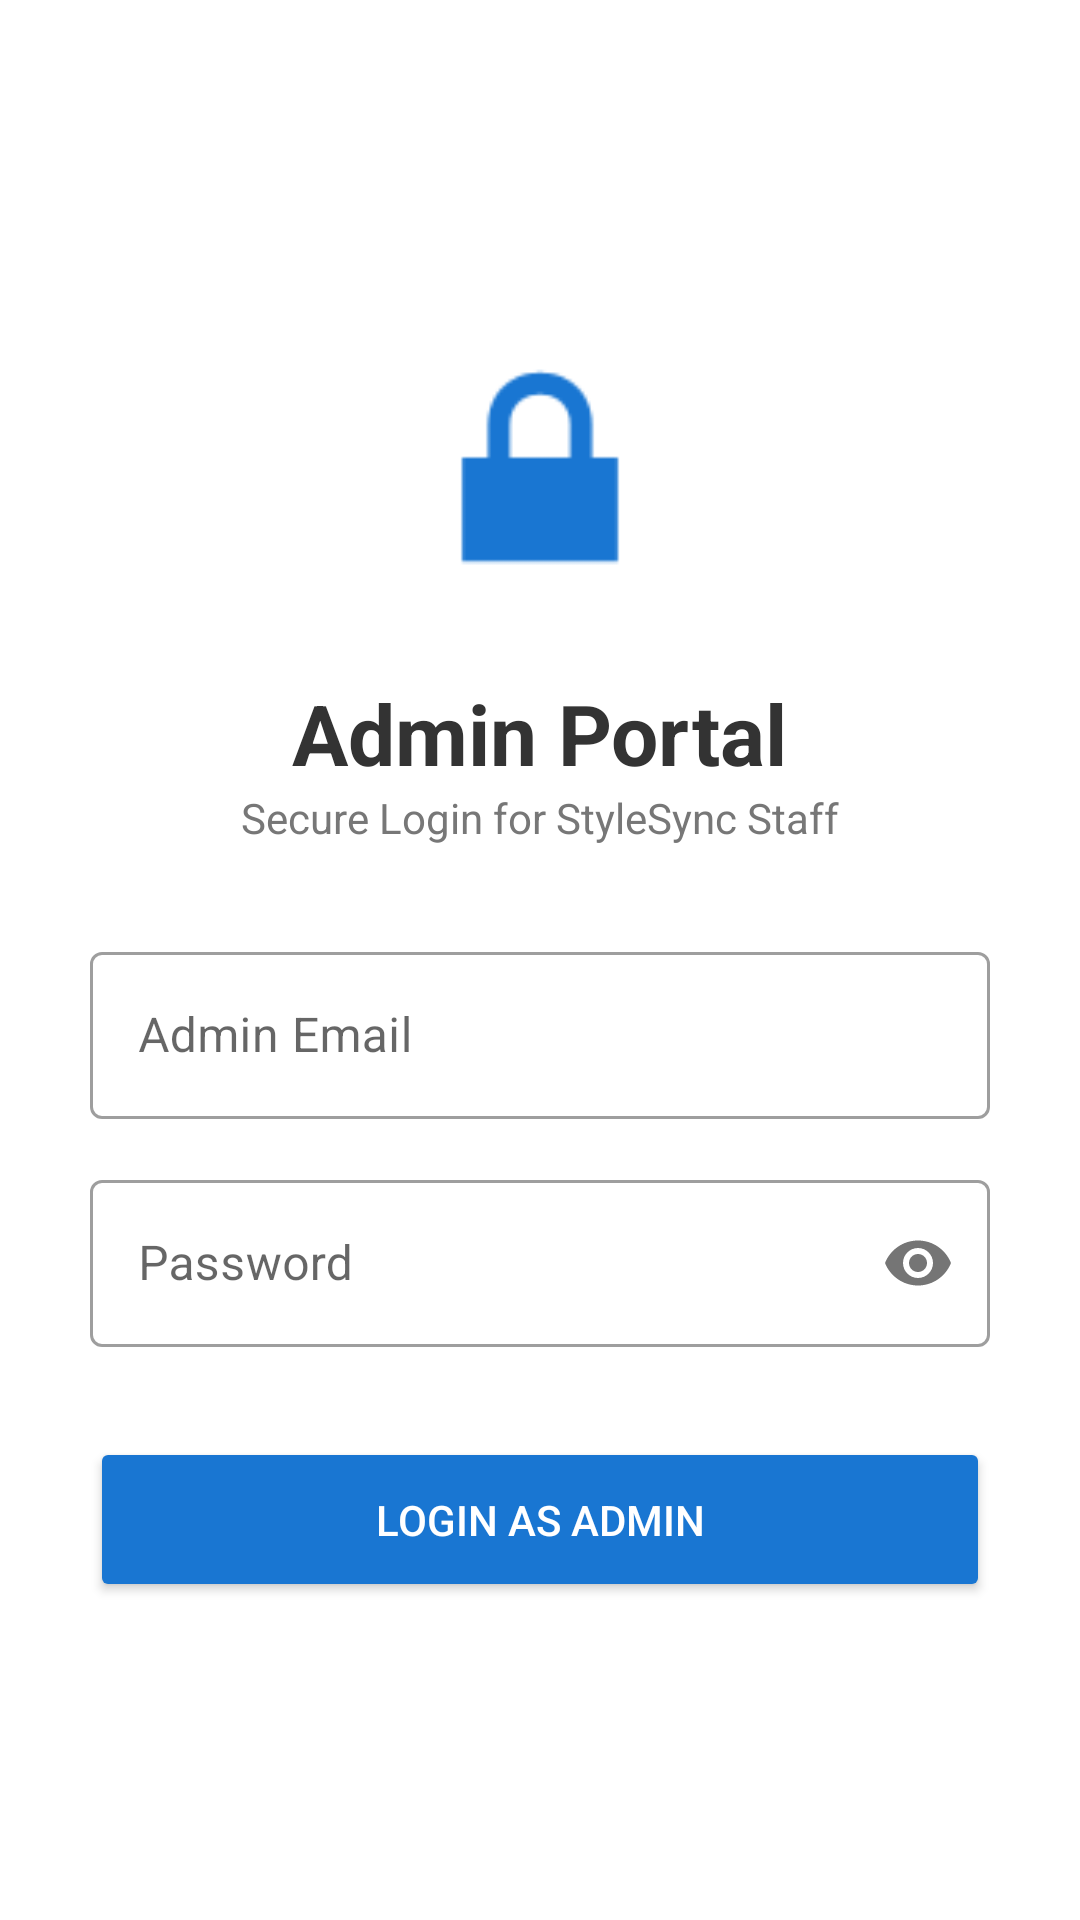

Icon bounding boxes for this 1080x1920 phone screenshot, format (x1, y1, x2, y2):
lock: (461, 370, 619, 564)
